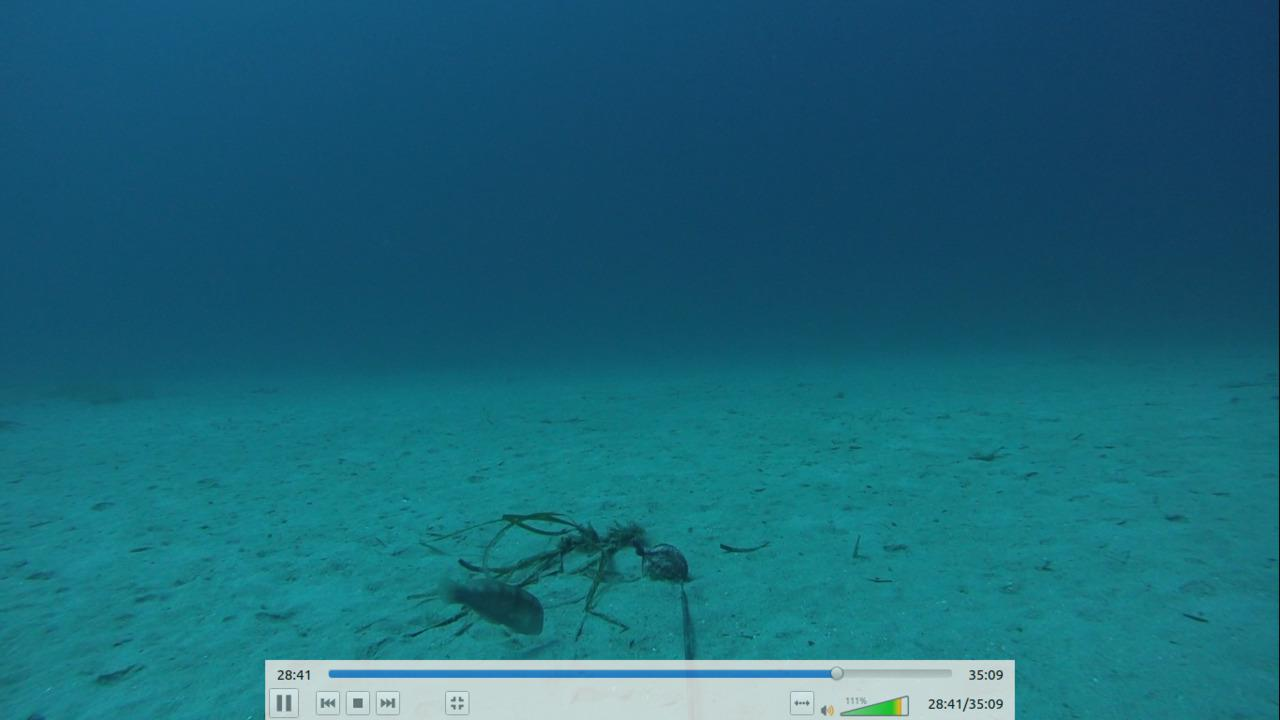raor: (432, 573, 545, 638)
